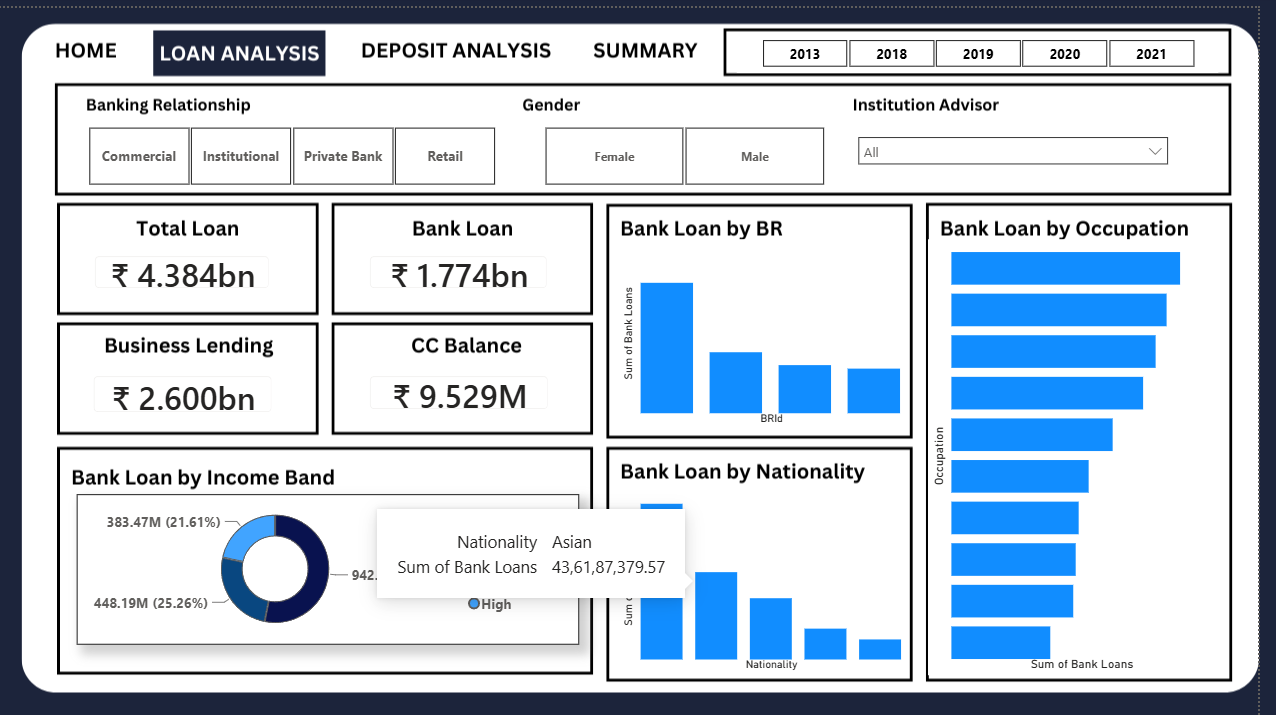

The page's visual inventory and layout, read from the dashboard file:
{"tool":"powerbi","page":{"name":"Loan Analysis","canvas":[1280,720],"ordinal":1},"visuals":[{"type":"slicer","fields":{"Values":["banking_case customer.Year of Joining"]},"box":[758.8,25,481.2,40],"z":0},{"type":"actionButton","box":[62.5,25,100,40],"z":1000},{"type":"actionButton","box":[373.8,20,212.5,50],"z":2000},{"type":"actionButton","box":[602.5,23.8,132.5,40],"z":3000},{"type":"cardVisual","fields":{"Data":["Sum(banking_case customer.Bank Loans)"]},"box":[375,231.2,211.2,66.2],"z":4000},{"type":"cardVisual","fields":{"Data":["banking_case customer.Total Loan"]},"box":[100,231.2,208.8,66.2],"z":5000},{"type":"cardVisual","fields":{"Data":["Sum(banking_case customer.Business Lending)"]},"box":[98.8,351.2,212.5,70],"z":6000},{"type":"cardVisual","fields":{"Data":["Sum(banking_case customer.Credit Card Balance)"]},"box":[375,351.2,212.5,67.5],"z":7000},{"type":"donutChart","fields":{"Category":["banking_case customer.Income Band"],"Y":["Sum(banking_case customer.Bank Loans)"]},"box":[98.8,486.2,502.5,150],"z":8000},{"type":"columnChart","fields":{"Y":["Sum(banking_case customer.Bank Loans)"],"Category":["banking_case customer.BRId"]},"box":[640,231.2,290,190],"z":9000},{"type":"columnChart","fields":{"Y":["Sum(banking_case customer.Bank Loans)"],"Category":["banking_case customer.Nationality"]},"box":[640,477.5,290,190],"z":10000},{"type":"barChart","fields":{"Category":["banking_case customer.Occupation"],"Y":["Sum(banking_case customer.Bank Loans)"]},"box":[950,231.2,290,436.2],"z":11000},{"type":"slicer","fields":{"Values":["banking_case customer.BRId"]},"box":[85,112.5,456.2,71.2],"z":12000},{"type":"slicer","fields":{"Values":["banking_case customer.GenderId"]},"box":[541.2,112.5,328.8,71.2],"z":13000},{"type":"slicer","fields":{"Values":["banking_case customer.IAId"]},"box":[870,118.8,330,60],"z":14000}]}

Visuals, with their boxes in screenshot pixels (x1, y1, x2, y2), scaled from the page's 1280x720 canvas onto the 1276x715 screenshot:
slicer - banking_case customer.Year of Joining: select_region(756, 25, 1236, 65)
actionButton: select_region(62, 25, 162, 65)
actionButton: select_region(373, 20, 584, 70)
actionButton: select_region(601, 24, 733, 63)
cardVisual - Sum(banking_case customer.Bank Loans): select_region(374, 230, 584, 295)
cardVisual - banking_case customer.Total Loan: select_region(100, 230, 308, 295)
cardVisual - Sum(banking_case customer.Business Lending): select_region(98, 349, 310, 418)
cardVisual - Sum(banking_case customer.Credit Card Balance): select_region(374, 349, 586, 416)
donutChart - banking_case customer.Income Band x Sum(banking_case customer.Bank Loans): select_region(98, 483, 599, 632)
columnChart - Sum(banking_case customer.Bank Loans) x banking_case customer.BRId: select_region(638, 230, 927, 418)
columnChart - Sum(banking_case customer.Bank Loans) x banking_case customer.Nationality: select_region(638, 474, 927, 663)
barChart - banking_case customer.Occupation x Sum(banking_case customer.Bank Loans): select_region(947, 230, 1236, 663)
slicer - banking_case customer.BRId: select_region(85, 112, 540, 182)
slicer - banking_case customer.GenderId: select_region(540, 112, 867, 182)
slicer - banking_case customer.IAId: select_region(867, 118, 1196, 178)
